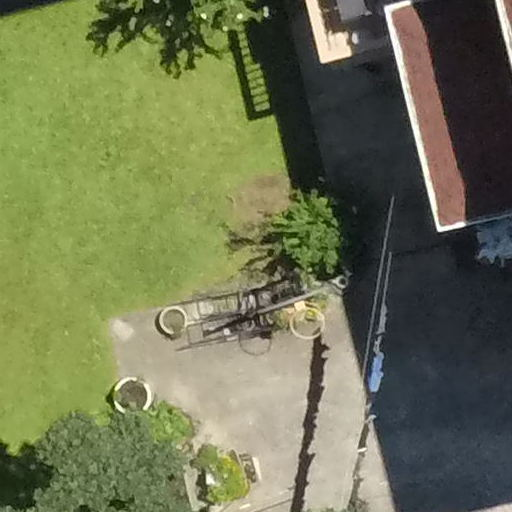container: (106, 376, 153, 415), (153, 302, 189, 338), (330, 272, 347, 288)
flower pot: (186, 440, 262, 512), (285, 304, 328, 348)
